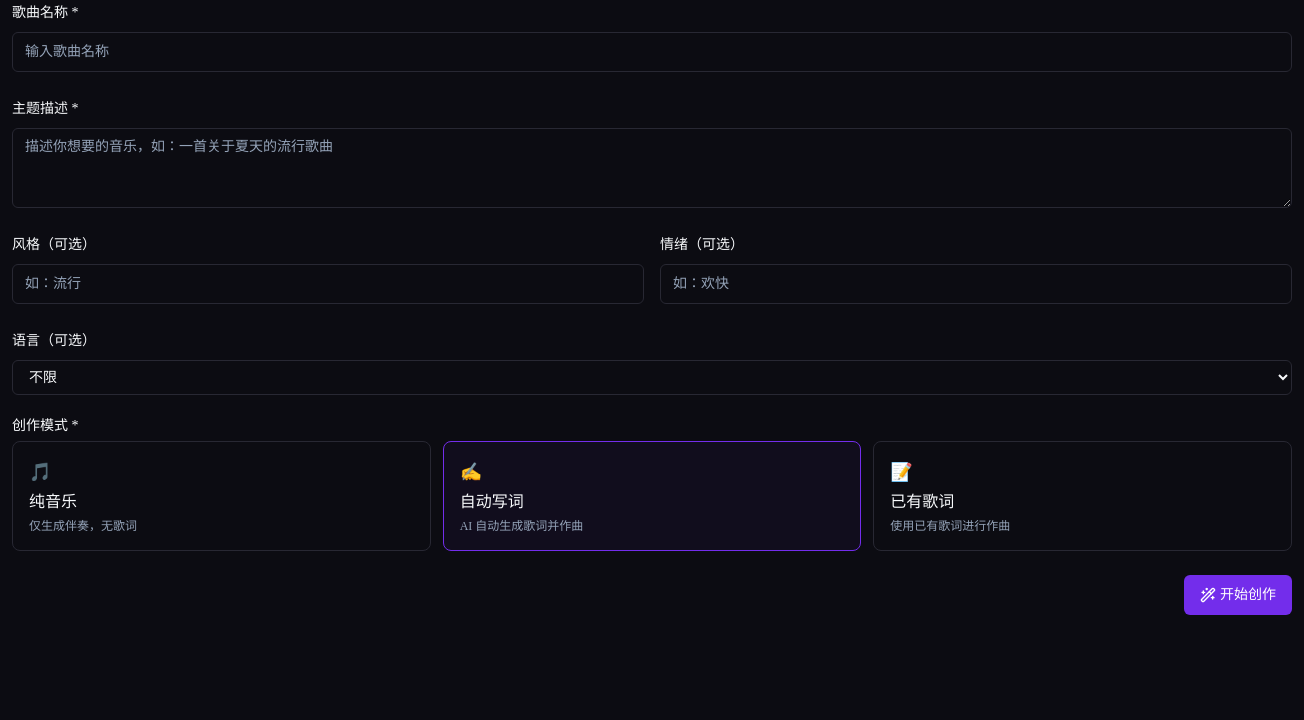
Test case: SongCreateForm › shows validation errors for empty required fields on submit
Click the button "开始创作" at (1238, 595), box [1184, 575, 1292, 615]
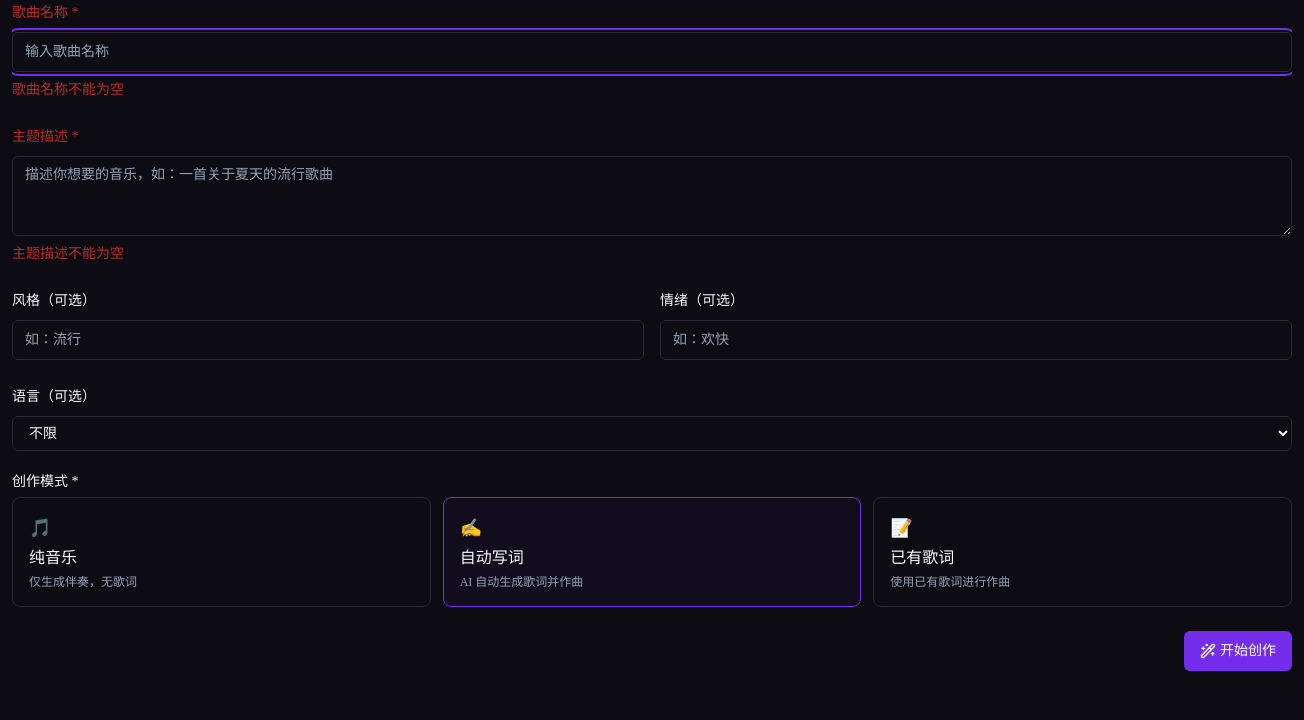
Expected: the text "歌曲名称不能为空" is shown, [12, 82, 124, 97]
Expected: the text "主题描述不能为空" is shown, [12, 246, 124, 261]
